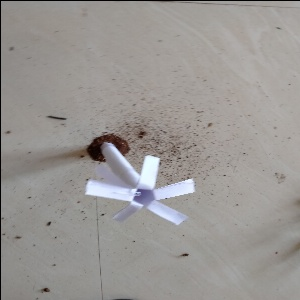weed: (84, 136, 200, 225)
